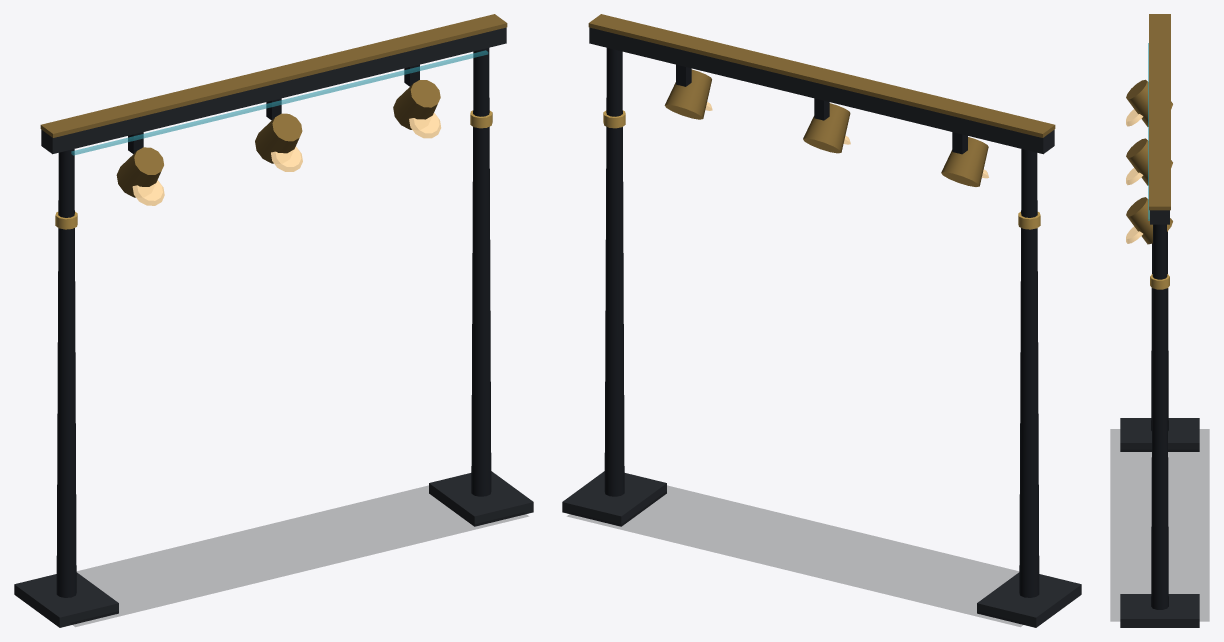
File: hp_room_desire_light_gantry.glb
3 renders of one model, left to right at view 1: azimuth 30°, elevation 25°; view 2: azimuth 150°, elevation 25°; view 3: azimuth 270°, elevation 25°, orthographic. The views are drawn at different scales.
Visible parts, largest first — view 1: contact_shadow, post_-1, post_1, beam_brass, beam, foot_-1, foot_1, service_strip, head_0.7, head_0, head_-0.7; view 2: contact_shadow, post_-1, post_1, beam_brass, beam, foot_-1, foot_1, head_0, head_0.7, head_-0.7; view 3: contact_shadow, post_1, beam_brass, foot_1, foot_-1, head_0.7, head_-0.7, head_0, post_-1, beam, post_collar_1, service_strip (+3 smaller).
Boxes of the visible parts, x1,y1,x2,y2 form: contact_shadow: (70, 485, 528, 626); post_-1: (56, 149, 76, 597); post_1: (471, 48, 491, 496); beam_brass: (40, 14, 507, 137); beam: (41, 27, 506, 154); foot_-1: (14, 572, 118, 627); foot_1: (429, 471, 533, 526); service_strip: (71, 50, 488, 155); head_0.7: (393, 80, 440, 129); head_0: (255, 113, 302, 163); head_-0.7: (116, 147, 163, 197); contact_shadow: (567, 485, 1025, 626); post_-1: (1019, 149, 1039, 597); post_1: (604, 48, 624, 496); beam_brass: (588, 14, 1055, 137); beam: (589, 27, 1054, 154); foot_-1: (977, 572, 1081, 627); foot_1: (562, 471, 666, 526); head_0: (803, 103, 850, 153); head_0.7: (664, 69, 711, 119); head_-0.7: (941, 137, 988, 186); contact_shadow: (1110, 429, 1209, 621); post_1: (1151, 224, 1168, 609); beam_brass: (1149, 14, 1170, 210); foot_1: (1120, 594, 1199, 627); foot_-1: (1120, 418, 1199, 451); head_0.7: (1126, 197, 1172, 244); head_-0.7: (1126, 79, 1172, 126); head_0: (1126, 138, 1172, 185); post_-1: (1151, 231, 1168, 430); beam: (1150, 210, 1169, 224); post_collar_1: (1150, 274, 1169, 289); service_strip: (1148, 43, 1149, 220).
Bounding box in the file's own units: 2.4 × 2.32 × 0.5.
